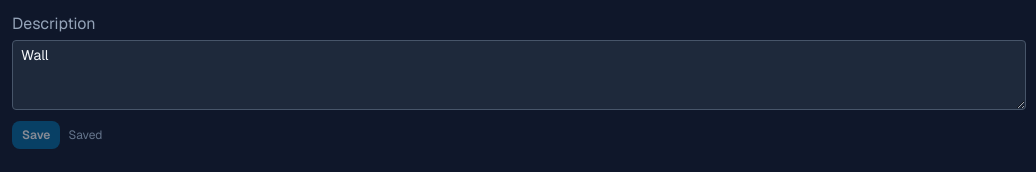
Test: DescriptionEditor state (spec §16 P3) › says when an edit is unsaved and can discard it
Expected: the text with test id "description-state" reads "Saved", [68,127,102,143]
Replace the text in the text box with test id "description-input" with "Wall 1.8" at point(519, 75), box [12,40,1026,110]
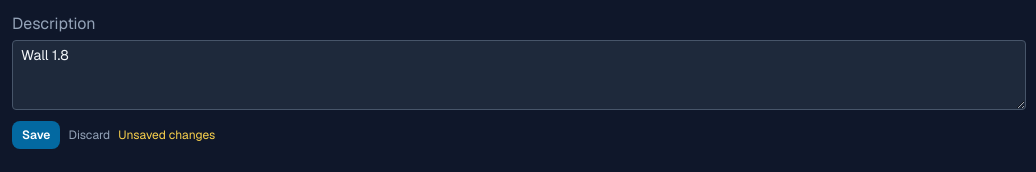
Result: the text with test id "description-state" reads "Unsaved changes" at [118,127,215,143]
Click the button with test id "description-discard".
click(89, 135)  # box [68,127,110,143]
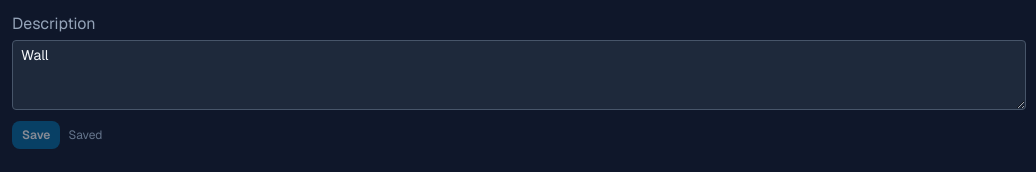
Result: the text box with test id "description-input" holds "Wall" at [12,40,1026,110]
